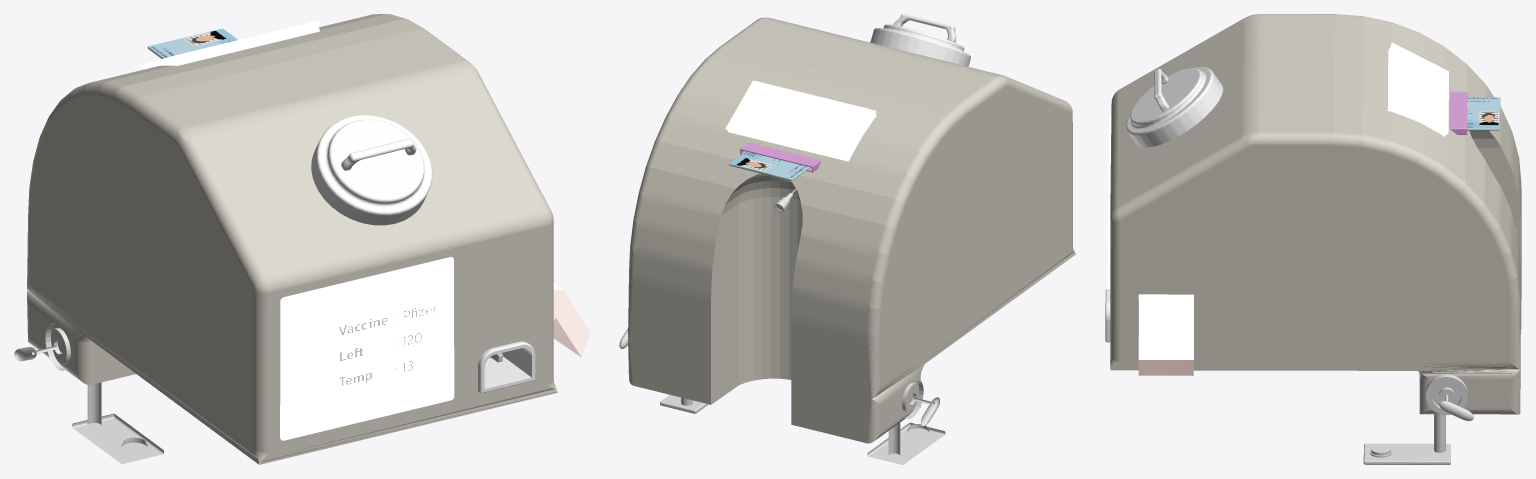
File: prototype8.glb
3 renders of one model, left to right at view 1: azimuth 30°, elevation 25°; view 2: azimuth 150°, elevation 25°; view 3: azimuth 270°, elevation 25°, orthographic. The views are drawn at different scales.
Visible parts, largest first — view 1: Cube, Plane.001, Circle, Cylinder.002, Plug, Plane, Plane.003, Plane.004, Circle.002; view 2: Cube, Plane, Circle, Cylinder.002, Plane.004, Plane.002, Circle.002, Cylinder; view 3: Cube, Circle, Plane.003, Plane, Cylinder, Circle.001, Plane.004, Plane.002, Plane.001.
Part boxes in pixels (x1,y1,x2,y2): Cube: [27, 14, 557, 464]; Plane.001: [280, 257, 454, 440]; Circle: [311, 115, 432, 225]; Cylinder.002: [72, 382, 163, 463]; Plug: [478, 341, 535, 393]; Plane: [140, 20, 319, 69]; Plane.003: [553, 283, 590, 357]; Plane.004: [147, 28, 237, 58]; Circle.002: [14, 322, 70, 370]; Cube: [628, 17, 1075, 443]; Plane: [725, 80, 876, 161]; Circle: [870, 14, 970, 66]; Cylinder.002: [867, 422, 945, 464]; Plane.004: [729, 151, 810, 180]; Plane.002: [740, 142, 821, 172]; Circle.002: [902, 378, 939, 425]; Cylinder: [660, 395, 708, 413]; Cube: [1110, 14, 1521, 414]; Circle: [1126, 67, 1223, 147]; Plane.003: [1138, 294, 1193, 375]; Plane: [1387, 42, 1448, 136]; Cylinder: [1363, 414, 1450, 464]; Circle.001: [1425, 374, 1473, 420]; Plane.004: [1467, 97, 1500, 130]; Plane.002: [1449, 92, 1467, 134]; Plane.001: [1107, 115, 1111, 289].
Size of the model in its own units: 49.45 by 47.17 by 54.08.
Materials: 11 (1 with a texture image).
